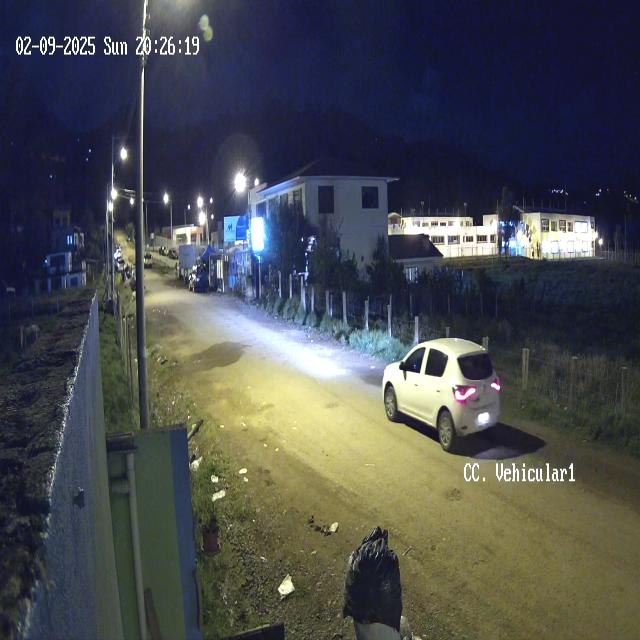SUV: (382, 338, 502, 452)
